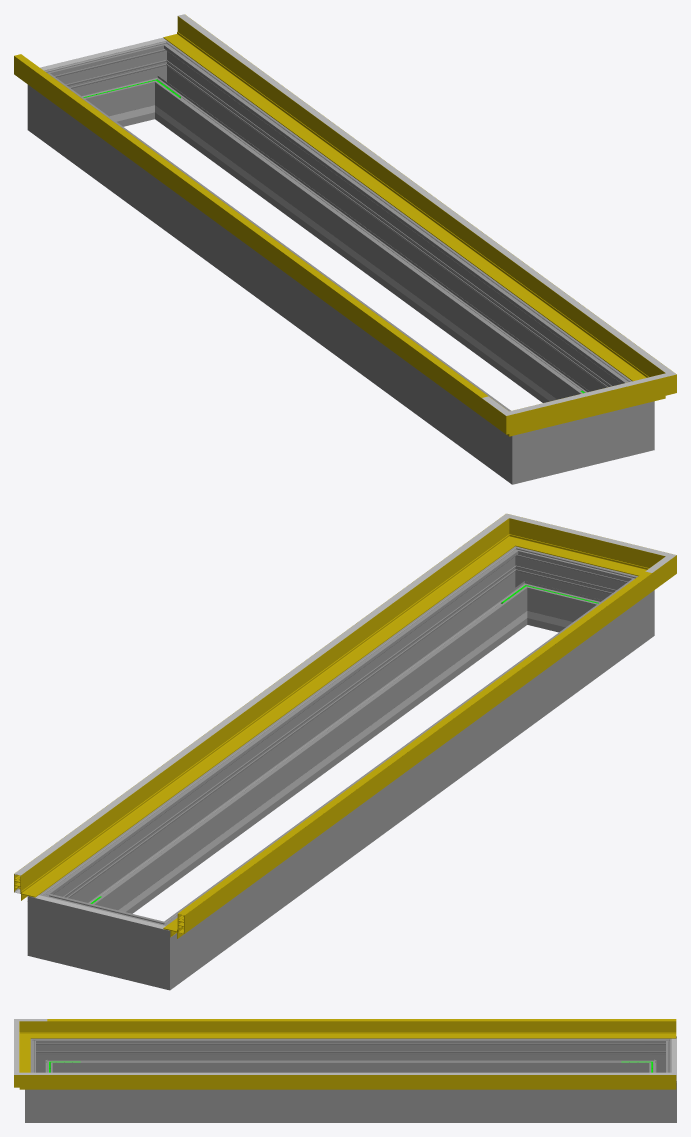
3 views of the same model, one above another, from view 1: azimuth 30°, elevation 25°; view 2: azimuth 150°, elevation 25°; view 3: azimuth 270°, elevation 25° (orthographic). The views are drawn at different scales.
Visible parts, largest first — view 1: 3DGeom-297, 3DGeom-268, 3DGeom-58, 3DGeom-50, 3DGeom-276, 3DGeom-71, 3DGeom-64, 3DGeom-270, 3DGeom-237, 3DGeom-298, 3DGeom-284, 3DGeom-290 (+4 smaller); view 2: 3DGeom-297, 3DGeom-268, 3DGeom-58, 3DGeom-50, 3DGeom-278, 3DGeom-276, 3DGeom-298, 3DGeom-71, 3DGeom-64, 3DGeom-284, 3DGeom-237, 3DGeom-290 (+4 smaller); view 3: 3DGeom-268, 3DGeom-297, 3DGeom-50, 3DGeom-58, 3DGeom-64, 3DGeom-71, 3DGeom-290, 3DGeom-284, 3DGeom-270, 3DGeom-278, 3DGeom-52, 3DGeom-60 (+2 smaller).
Part boxes in pixels (x1,y1,x2,y2): 3DGeom-297: [159, 55, 622, 402]; 3DGeom-268: [52, 85, 501, 466]; 3DGeom-58: [163, 14, 649, 379]; 3DGeom-50: [14, 56, 486, 416]; 3DGeom-276: [74, 49, 147, 126]; 3DGeom-71: [14, 54, 487, 397]; 3DGeom-64: [178, 14, 651, 357]; 3DGeom-270: [487, 404, 554, 484]; 3DGeom-237: [178, 123, 556, 401]; 3DGeom-298: [555, 411, 611, 474]; 3DGeom-284: [131, 40, 187, 121]; 3DGeom-290: [612, 374, 654, 460]; 3DGeom-297: [59, 561, 523, 913]; 3DGeom-268: [181, 591, 629, 971]; 3DGeom-58: [14, 532, 502, 900]; 3DGeom-50: [163, 572, 652, 938]; 3DGeom-278: [127, 909, 194, 990]; 3DGeom-276: [70, 900, 134, 979]; 3DGeom-298: [534, 555, 607, 632]; 3DGeom-71: [178, 571, 651, 916]; 3DGeom-64: [14, 531, 487, 875]; 3DGeom-284: [27, 880, 77, 965]; 3DGeom-237: [118, 628, 503, 911]; 3DGeom-290: [494, 546, 550, 627]; 3DGeom-268: [58, 1038, 643, 1072]; 3DGeom-297: [58, 1089, 643, 1122]; 3DGeom-50: [47, 1021, 676, 1038]; 3DGeom-58: [47, 1075, 676, 1089]; 3DGeom-64: [47, 1072, 676, 1074]; 3DGeom-71: [47, 1019, 676, 1021]; 3DGeom-290: [25, 1069, 58, 1122]; 3DGeom-284: [644, 1069, 676, 1122]; 3DGeom-270: [30, 1038, 58, 1072]; 3DGeom-278: [644, 1036, 676, 1072]; 3DGeom-52: [19, 1021, 46, 1044]; 3DGeom-60: [14, 1061, 46, 1089].
Bounding box in the file's own units: 0.6096 × 0.2669 × 3.05.
